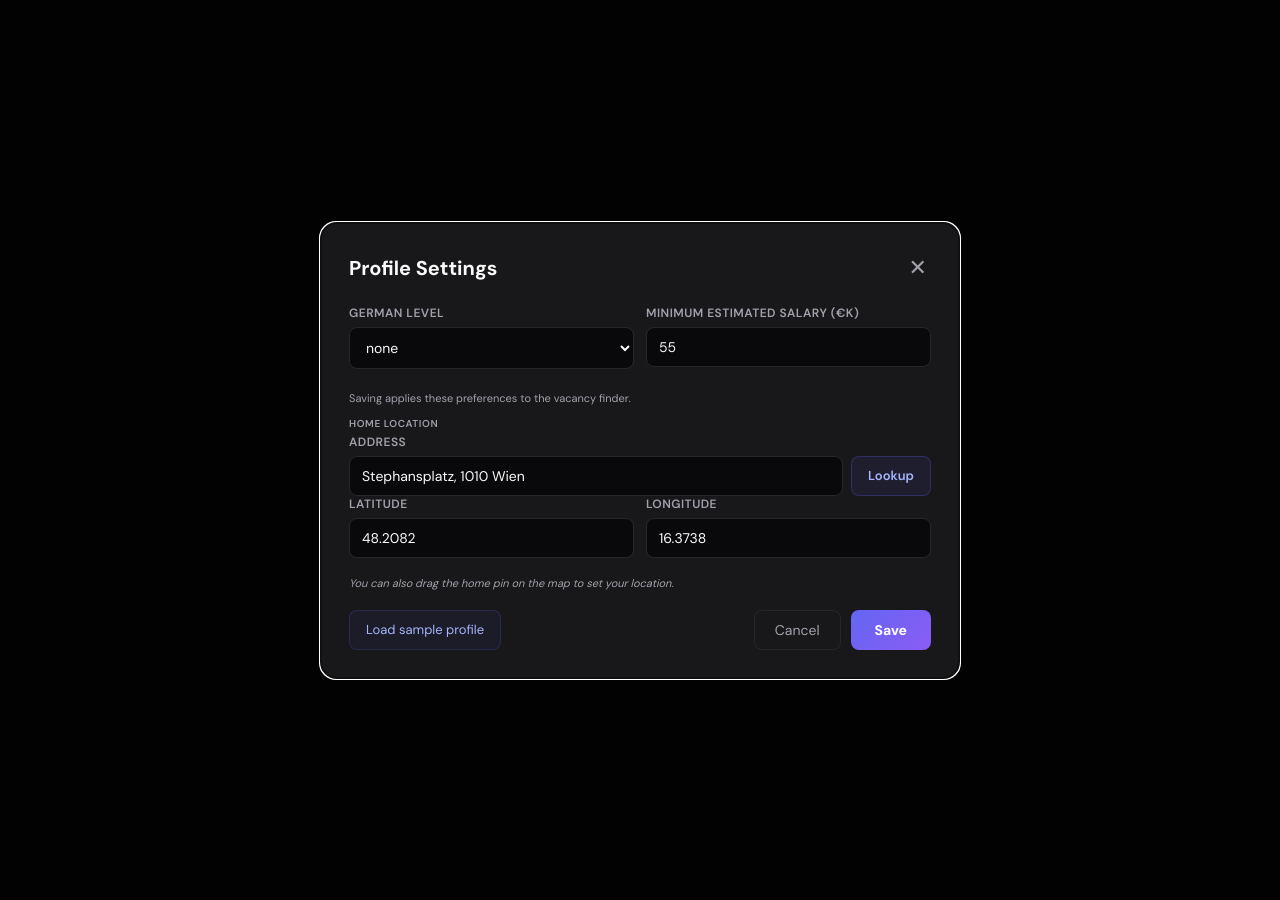
Test: SettingsModal › empty result shows 'Address not found'
Click the button "Lookup": [891, 476] box [851,456,931,496]
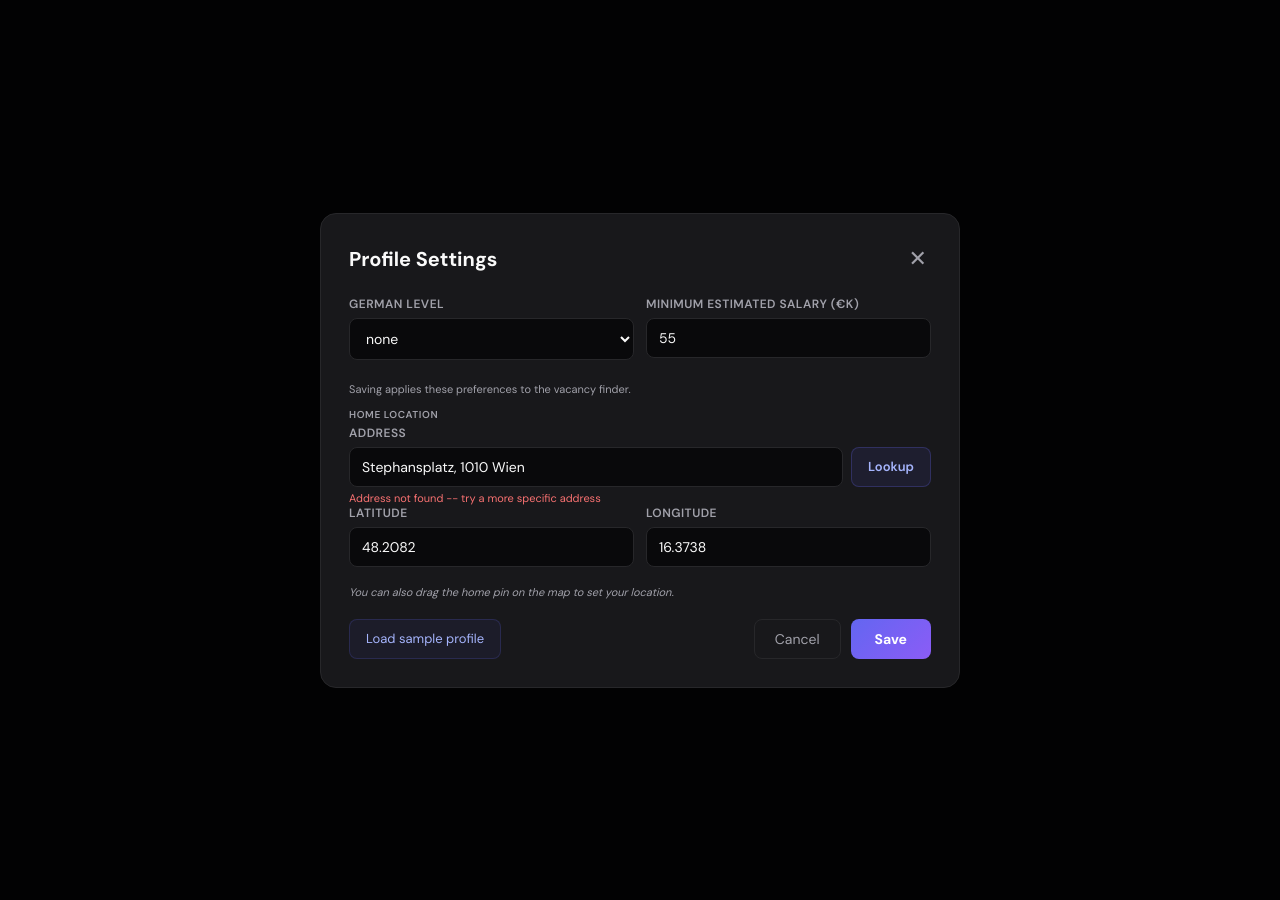
expect the text "Address not found -- try a more specific address" is shown: met, box [349,490,601,504]
